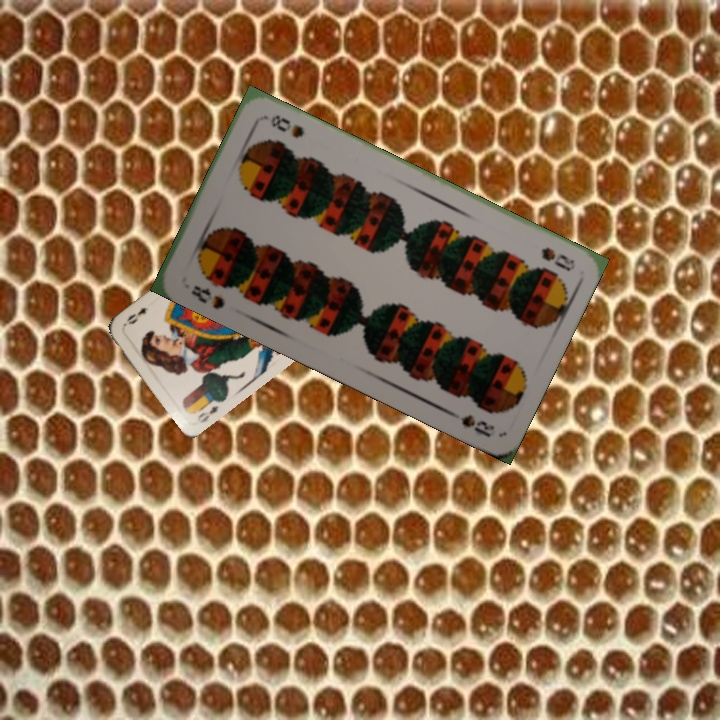EO: (193, 401, 221, 426)
S8: (186, 281, 228, 312), (537, 243, 577, 274)
